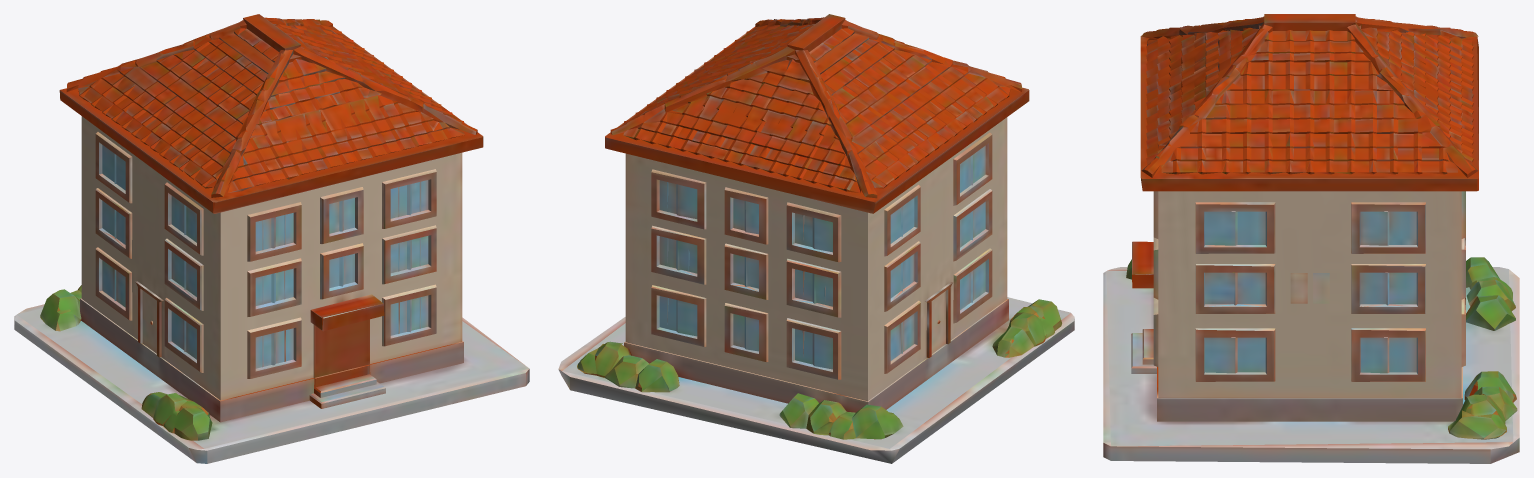
File: gedung_1_lod2.glb
3 views of the same model, side by side, from view 1: azimuth 30°, elevation 25°; view 2: azimuth 150°, elevation 25°; view 3: azimuth 270°, elevation 25° (orthographic). The views are drawn at different scales.
Parts seen in each view (by area): view 1: tripo_node_4c26c99e; view 2: tripo_node_4c26c99e; view 3: tripo_node_4c26c99e.
Part boxes in pixels (<box>): tripo_node_4c26c99e: <box>14,14,529,463</box>; tripo_node_4c26c99e: <box>558,14,1074,463</box>; tripo_node_4c26c99e: <box>1103,14,1519,463</box>.
Bounding box in the file's own units: 0.9963 × 0.901 × 0.9599.
1 material, 1 textured.
